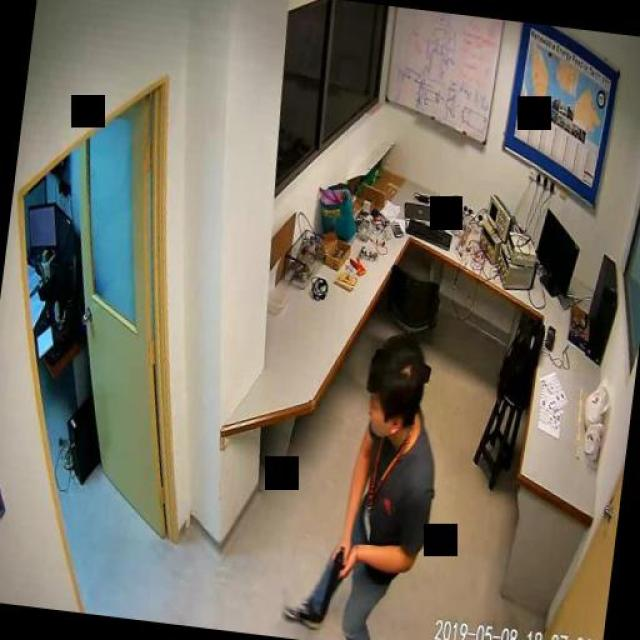gun: (318, 542, 344, 620)
